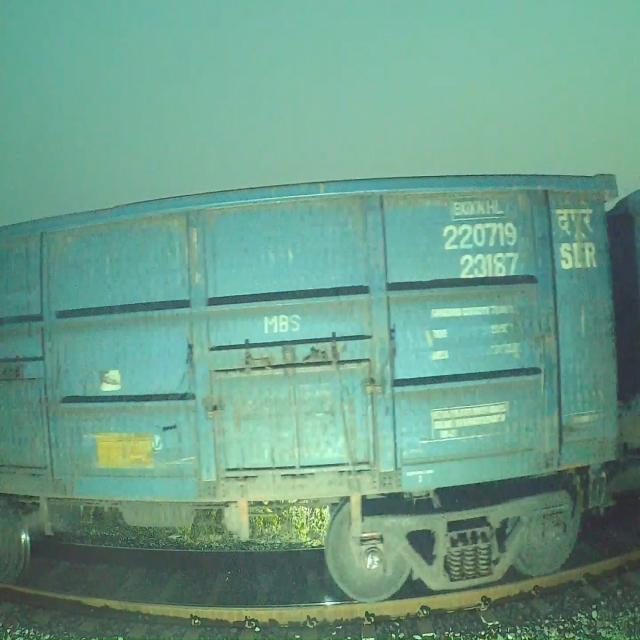WAgon-uic: (0, 166, 626, 613), (574, 180, 640, 554)
uic: (440, 217, 529, 284)
